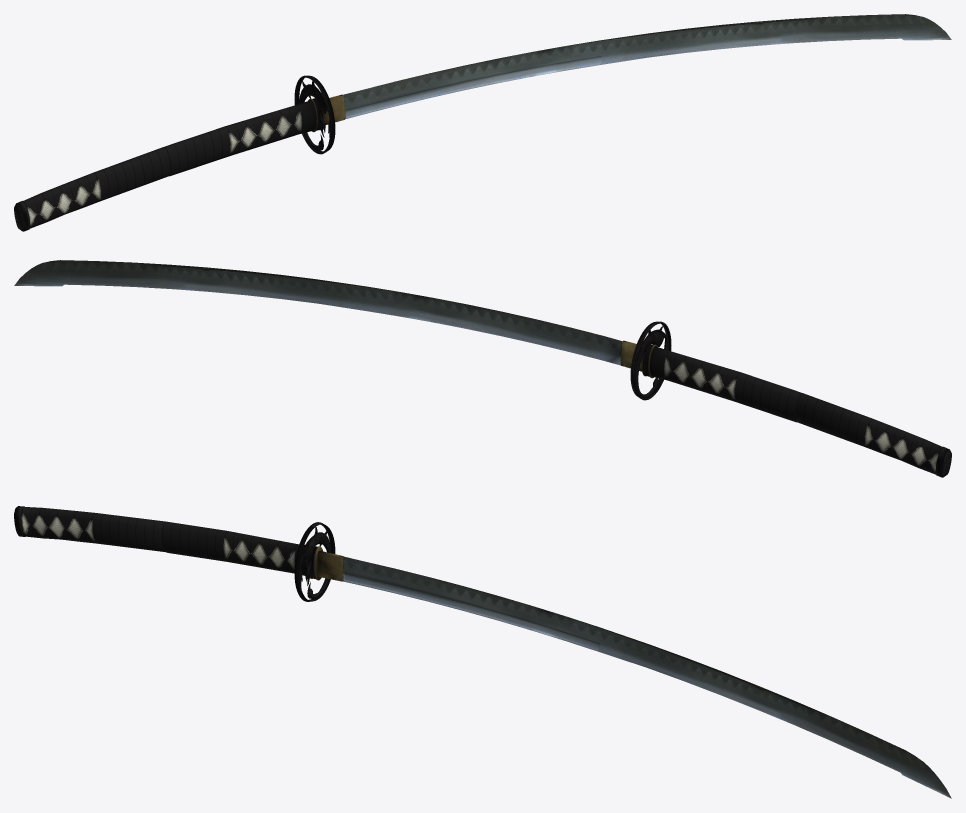
Rendered from v_katana.glb.
3 renders of one model, top to bottom at view 1: azimuth 30°, elevation 25°; view 2: azimuth 150°, elevation 25°; view 3: azimuth 330°, elevation 25°, orthographic.
Visible parts, largest first — view 1: v_katana; view 2: v_katana; view 3: v_katana.
Boxes of the visible parts, x1,y1,x2,y2 form: v_katana: [14, 14, 951, 231]; v_katana: [14, 260, 951, 477]; v_katana: [14, 506, 951, 798].
Bounding box in the file's own units: 0.98 × 0.1182 × 0.0674.
Materials: 1 (1 with a texture image).
